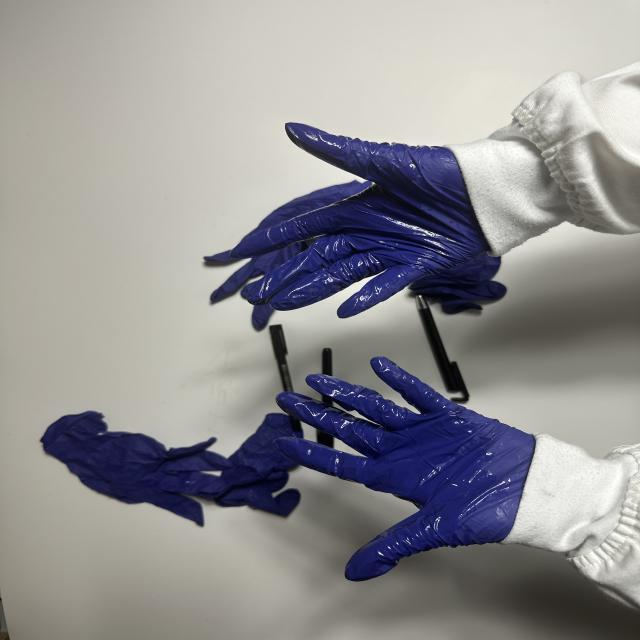gloves_contaminated: (276, 357, 534, 581), (231, 123, 489, 317)
